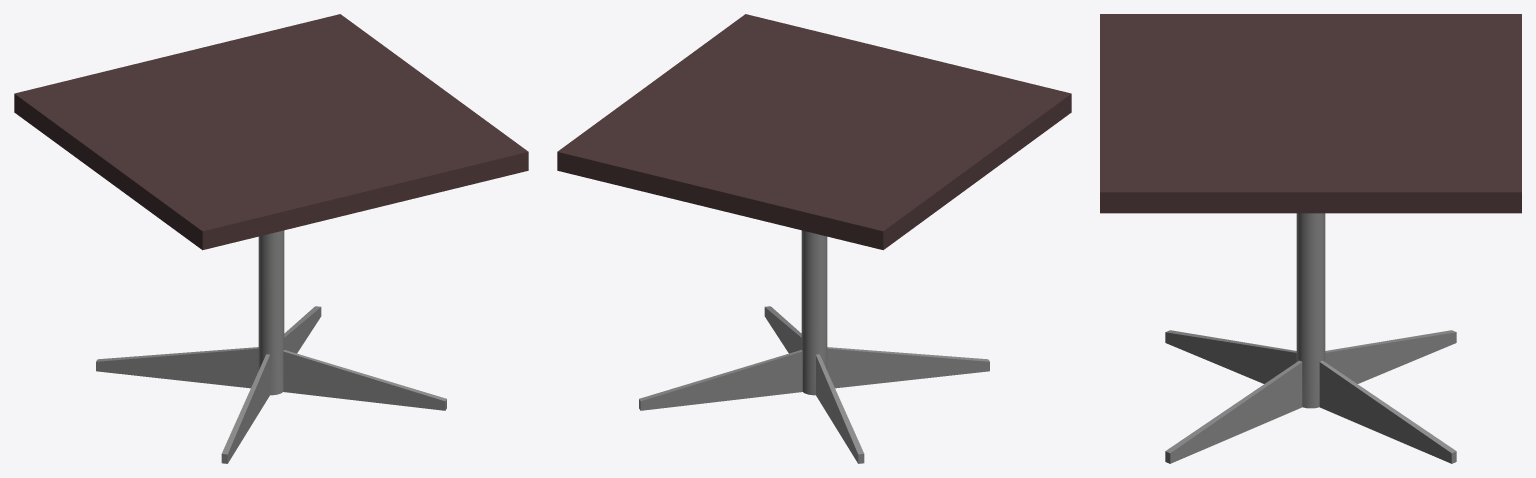
The model's file is Restaurant_Table.fbx.
3 renders of one model, left to right at view 1: azimuth 30°, elevation 25°; view 2: azimuth 150°, elevation 25°; view 3: azimuth 270°, elevation 25°, orthographic. The views are drawn at different scales.
Visible parts, largest first — view 1: restaurant_table; view 2: restaurant_table; view 3: restaurant_table.
Boxes of the visible parts, box(x1,y1,x2,y2) form: restaurant_table: box(14, 14, 528, 463); restaurant_table: box(557, 14, 1071, 463); restaurant_table: box(1100, 14, 1521, 463).
Size of the model in its own units: 3.57 by 2.8 by 3.57.
